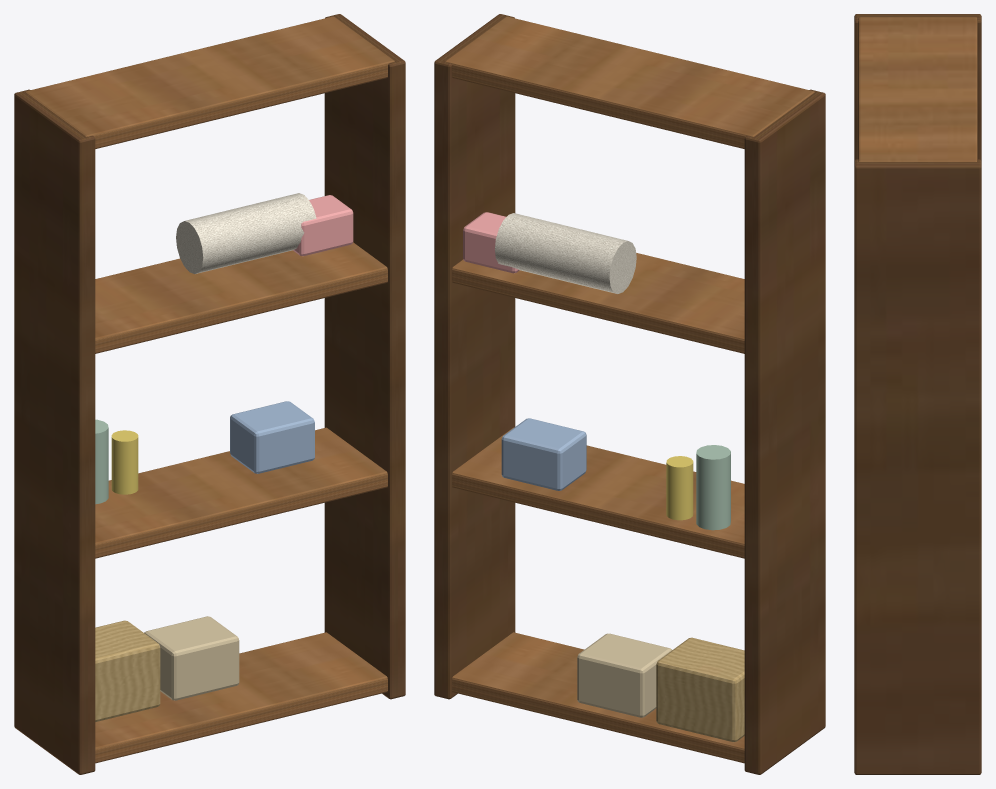
The model's file is shelf_unit.glb.
3 views of the same model, side by side, from view 1: azimuth 30°, elevation 25°; view 2: azimuth 150°, elevation 25°; view 3: azimuth 270°, elevation 25° (orthographic). The views are drawn at different scales.
Parts seen in each view (by area): view 1: sideL.003, sideR.002, shelf3.001, shelf1.001, shelf2.001, shelf0.001, blanket_roll, sbox2, sbox1, sbox3, sbox4, bottle2 (+1 smaller); view 2: sideL.003, sideR.002, shelf3.001, shelf2.001, shelf1.001, shelf0.001, sbox1, blanket_roll, sbox2, sbox3, bottle1, sbox4 (+1 smaller); view 3: sideR.002, shelf3.001, sideL.003.
Boxes of the visible parts, box(x1,y1,x2,y2) form: sideL.003: box(14, 89, 95, 774); sideR.002: box(324, 14, 405, 699); shelf3.001: box(25, 16, 394, 148); shelf1.001: box(95, 427, 387, 558); shelf2.001: box(95, 242, 387, 353); shelf0.001: box(95, 632, 387, 763); blanket_roll: box(176, 193, 316, 273); sbox2: box(144, 616, 239, 700); sbox1: box(95, 620, 160, 721); sbox3: box(230, 401, 314, 473); sbox4: box(293, 195, 353, 256); bottle2: box(111, 430, 138, 494); sideL.003: box(744, 89, 825, 774); sideR.002: box(434, 14, 515, 699); shelf3.001: box(445, 16, 814, 148); shelf2.001: box(452, 253, 744, 353); shelf1.001: box(452, 427, 744, 558); shelf0.001: box(452, 632, 744, 763); sbox1: box(656, 637, 744, 742); blanket_roll: box(494, 213, 636, 293); sbox2: box(577, 633, 671, 717); sbox3: box(501, 418, 586, 490); bottle1: box(696, 445, 730, 530); sbox4: box(463, 212, 519, 273); sideR.002: box(854, 159, 981, 774); shelf3.001: box(858, 17, 977, 161); sideL.003: box(854, 14, 981, 160).
Size of the model in its own units: 0.97 by 1.8 by 0.34.
9 materials, 4 textured.
